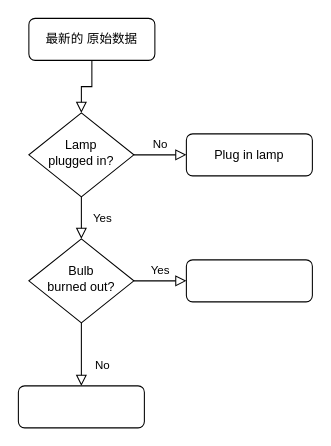
Image size: 331x446. Some labels were removed from this diagram. The centre of each missing label's shape, as x and y in pixels:
"Repair Lamp" goes at (80,406).
"Replace Bulb" goes at (248,280).
